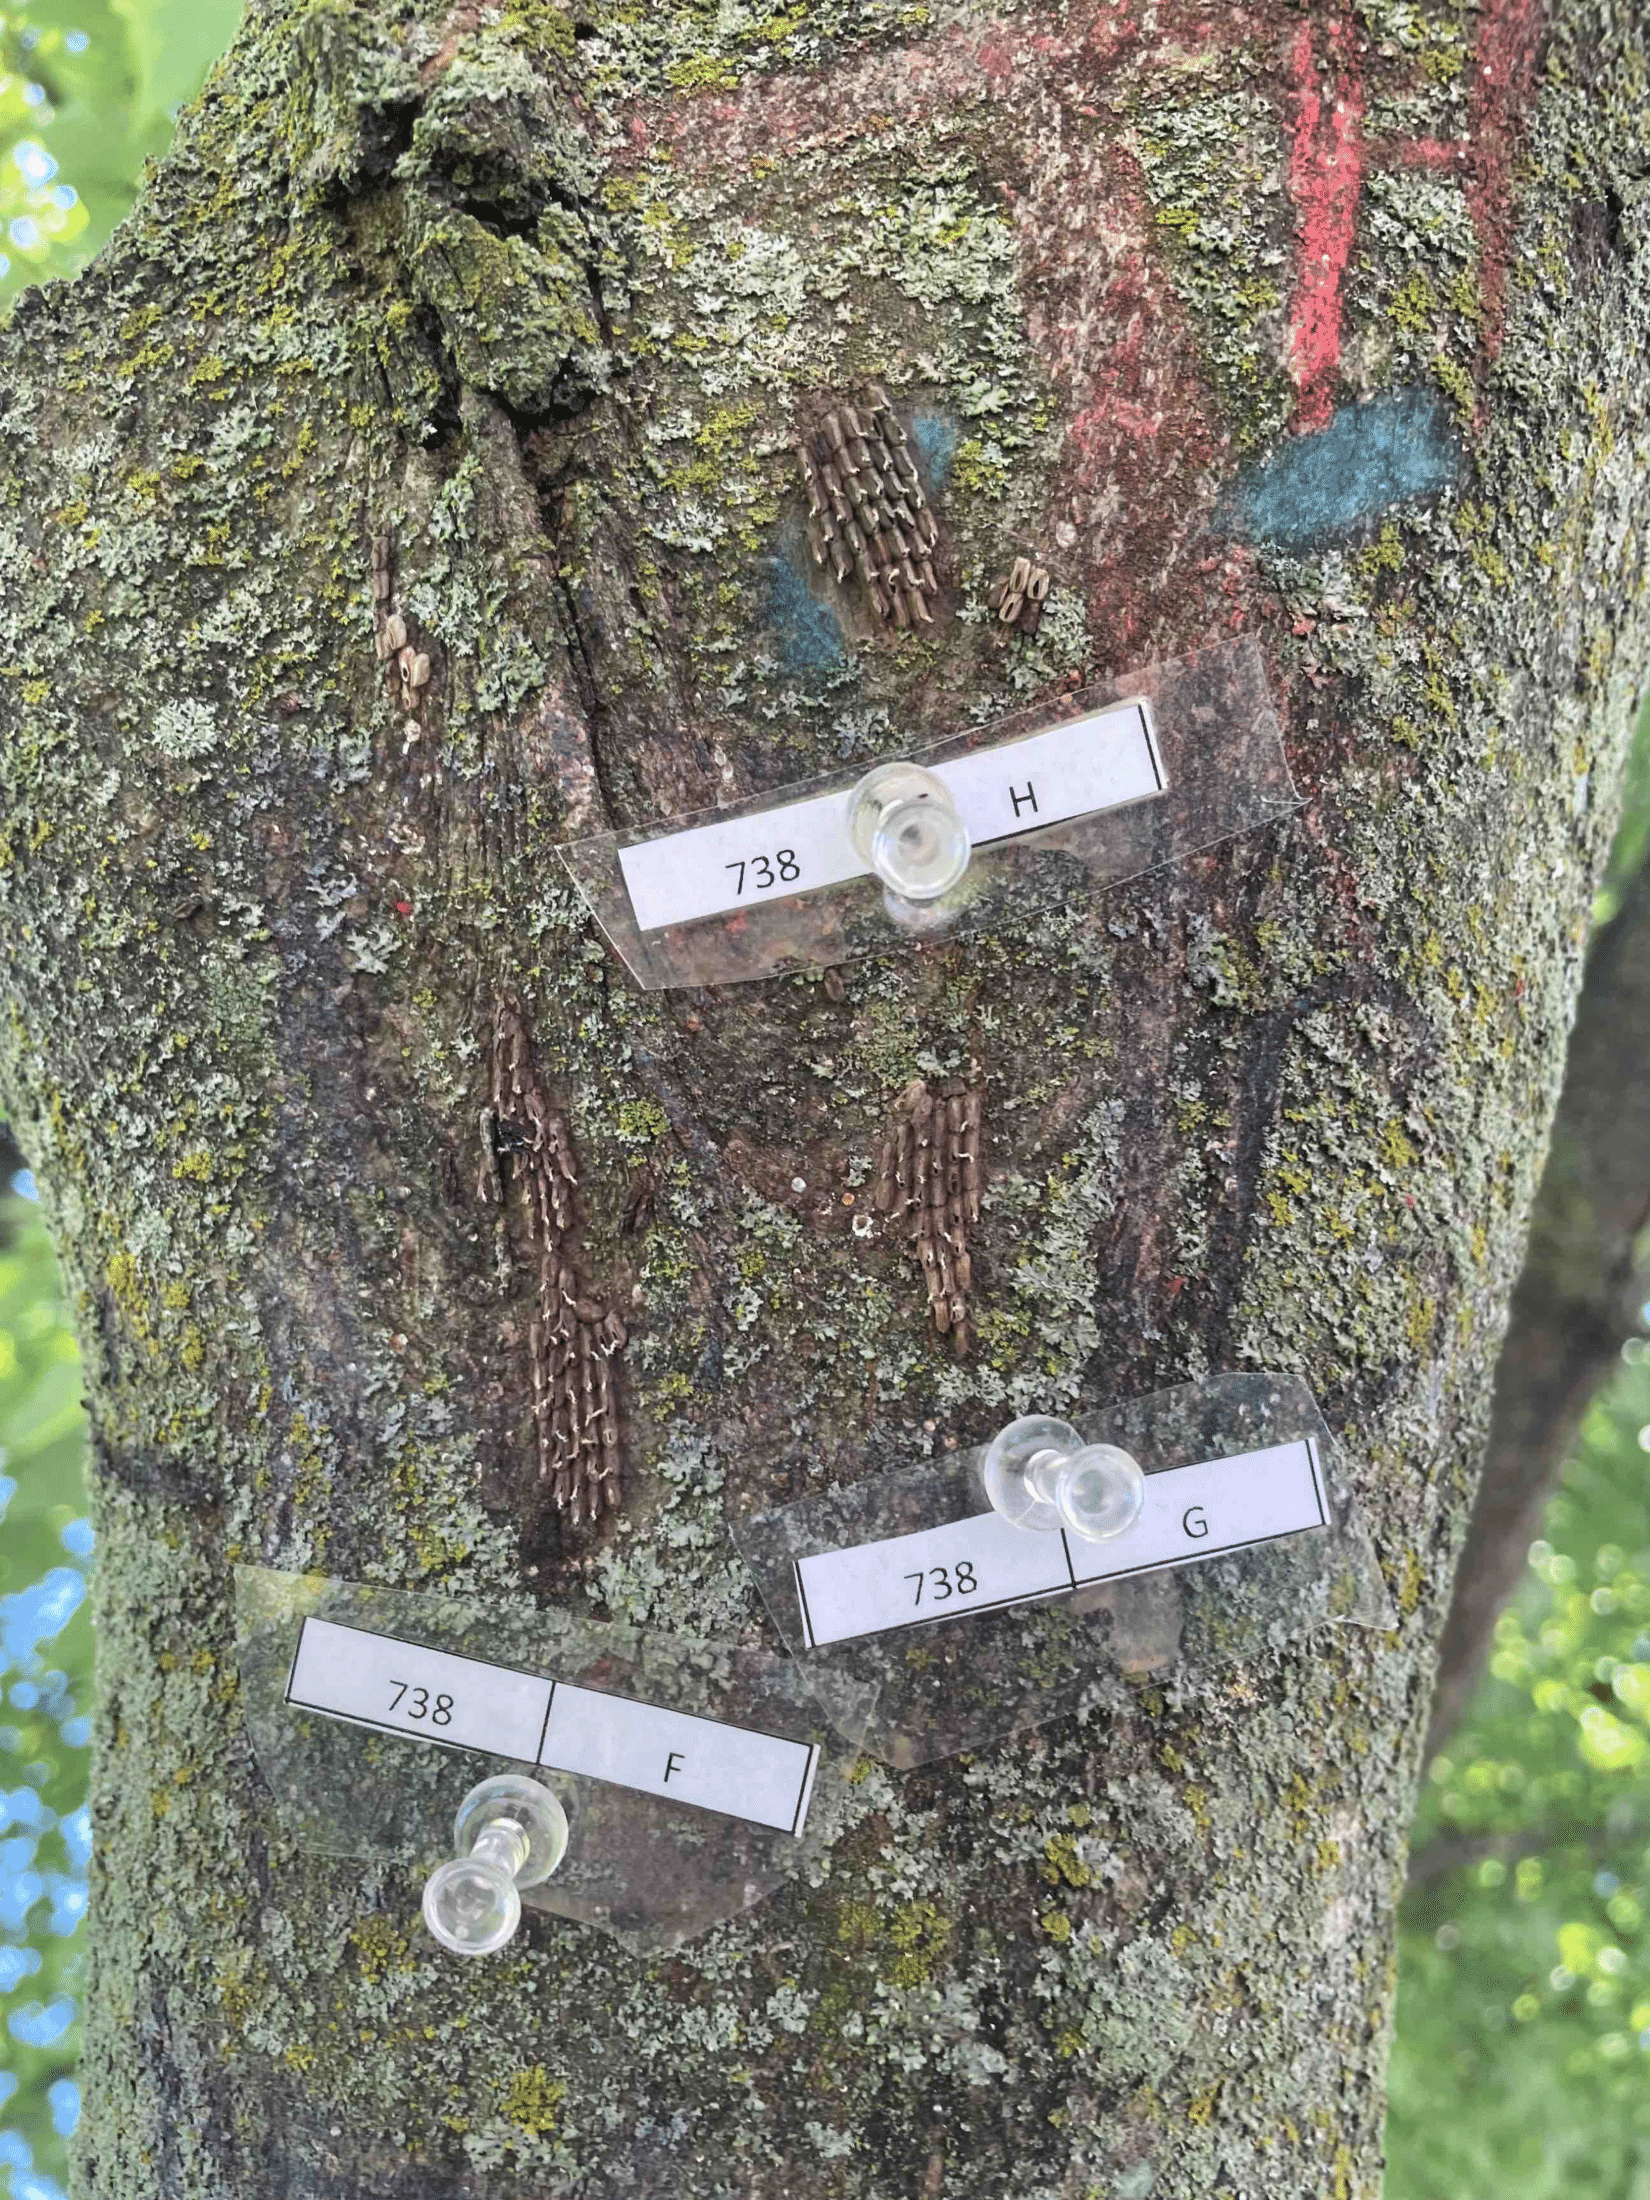egg masses: (452, 925, 659, 1564), (704, 350, 1078, 620), (874, 1012, 1023, 1365)
